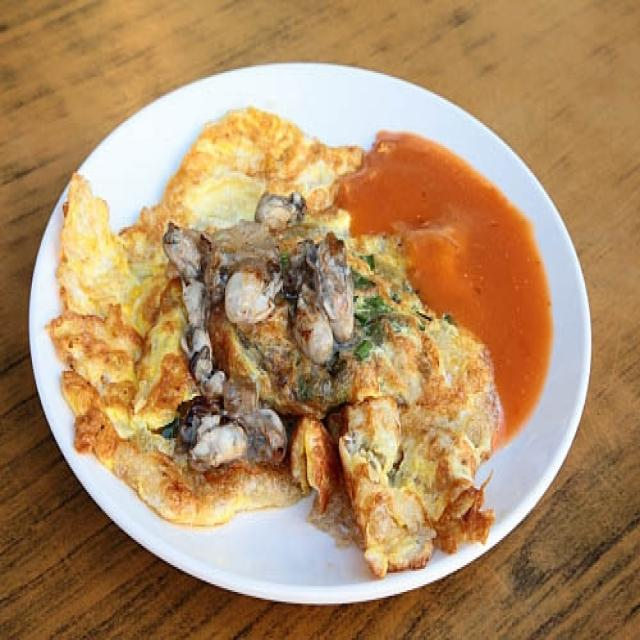熟制海鲜: (26, 50, 606, 607)
